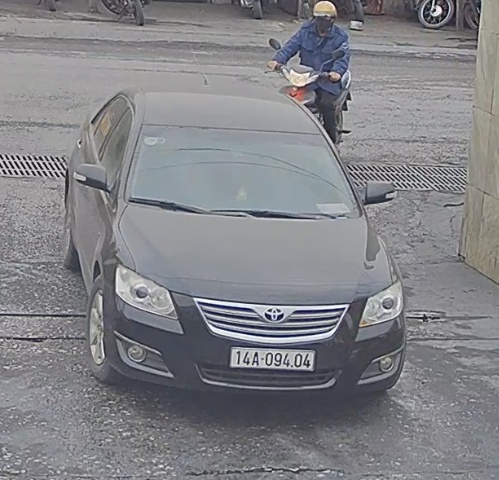vehicle plate: (221, 339, 320, 375)
